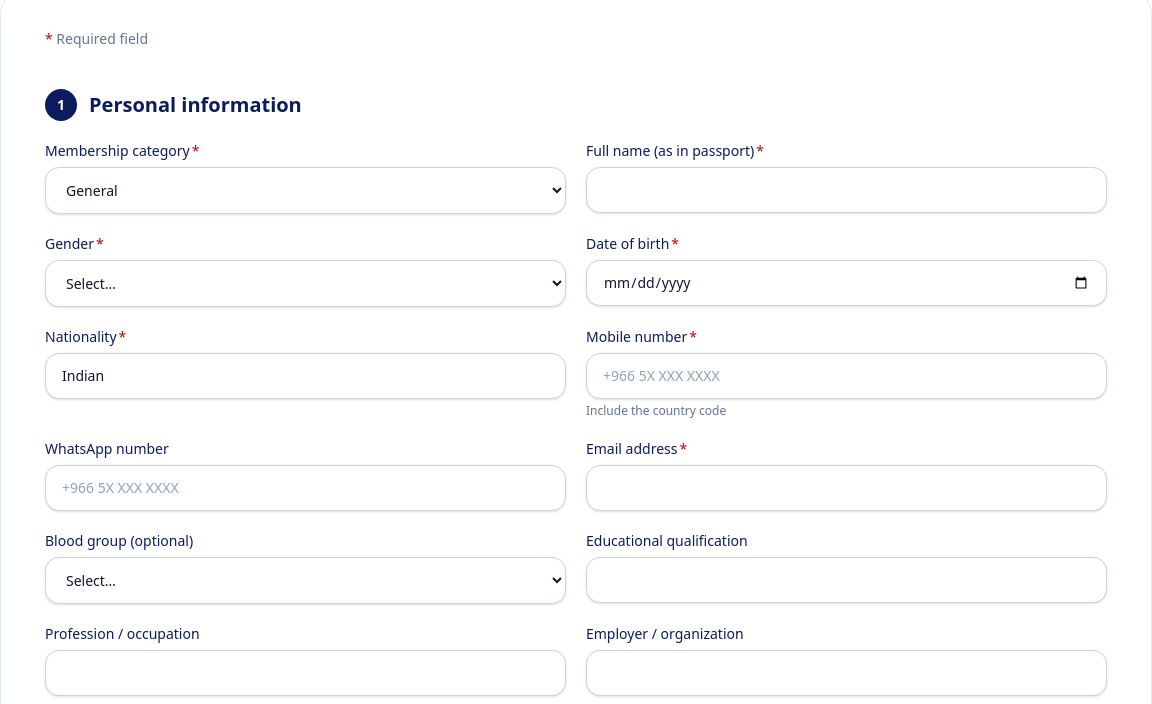
Test: MembershipForm › validates email and phone formats inline
The width and height of the screenshot is (1152, 704).
Type "not-an-email" into the field labelled "Email address*". click: (846, 488)
box: top-left (586, 465), bottom-right (1107, 511)
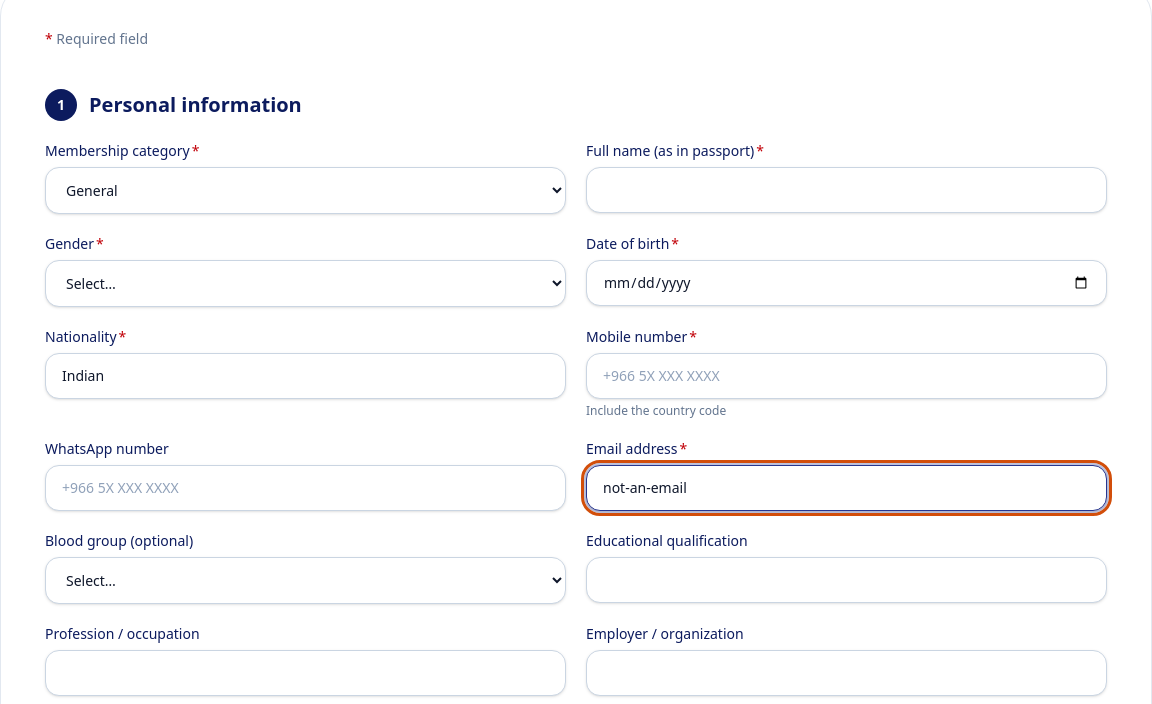
Type "abc" into the field labelled "Mobile number*". click: (846, 376)
box: top-left (586, 353), bottom-right (1107, 399)
(page scrolled)
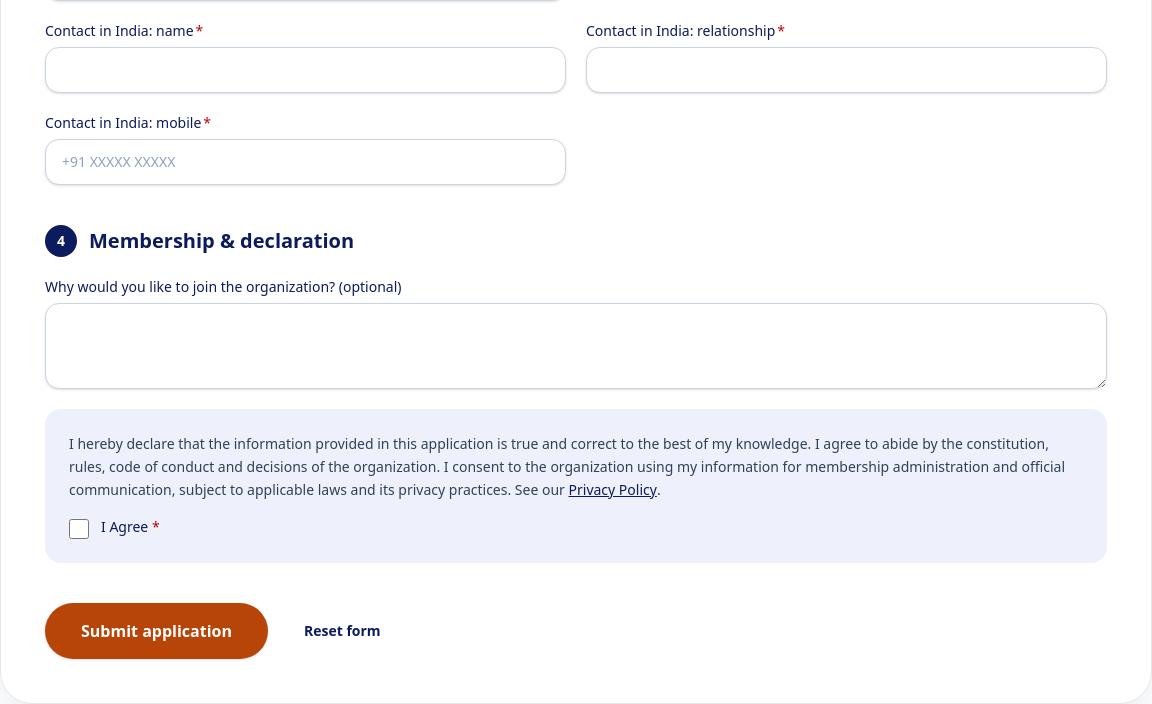
Click the button "Submit application". click: (156, 631)
box: top-left (45, 603), bottom-right (268, 659)
(page scrolled)
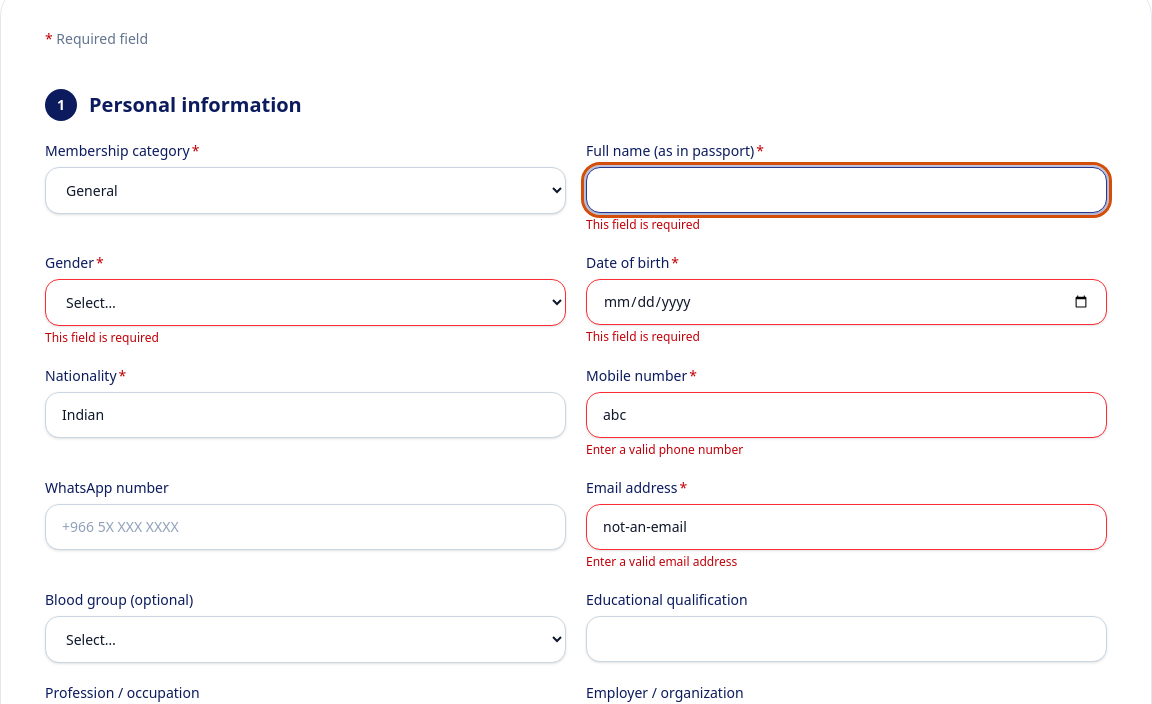
Check: the text "Enter a valid email address" is shown, box top-left (586, 553), bottom-right (737, 570)
Check: the text "Enter a valid phone number" is shown, box top-left (586, 441), bottom-right (743, 458)
